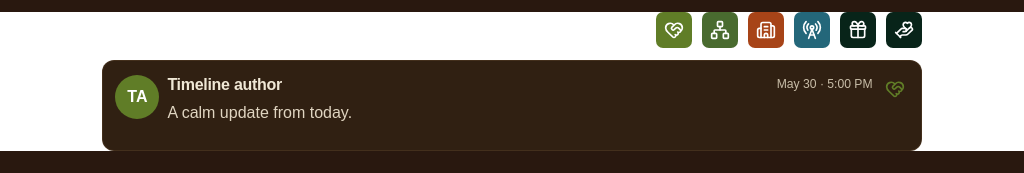
TimelinePanel › filters the API-backed item by relationship layer
The width and height of the screenshot is (1024, 173).
Expected: the text "A calm update from today." is shown, [167,104,352,121]
Click the button named "Filter to Tribe": [720, 30] box [702,12,738,48]
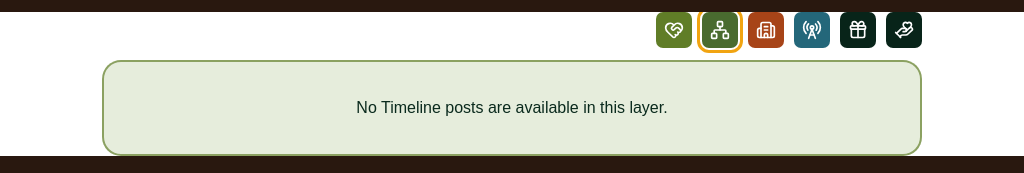
Expected: the text "No Timeline posts are available in this layer." is shown, [102,60,922,156]
Expected: the text "A calm update from today." is gone
Click the button named "Filter to Party": [674, 30] box [656,12,692,48]
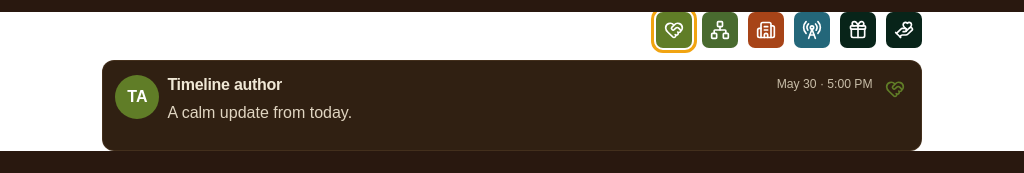
Expected: the text "A calm update from today." is shown, [167,104,352,121]
